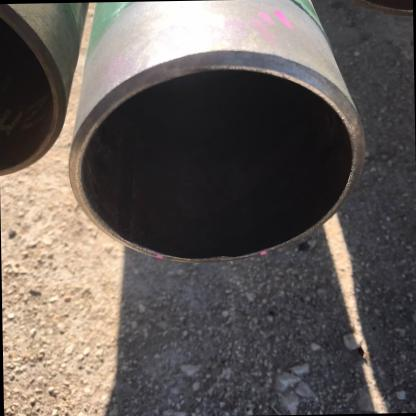Bevel: (204, 241, 234, 267)
